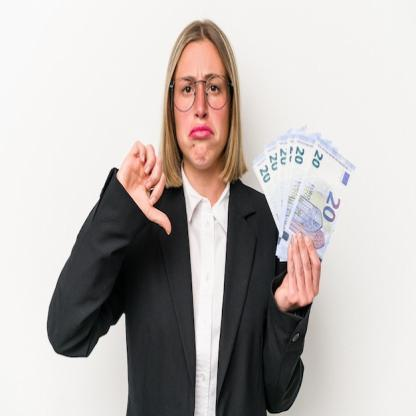thumb_down: (116, 137, 172, 241)
